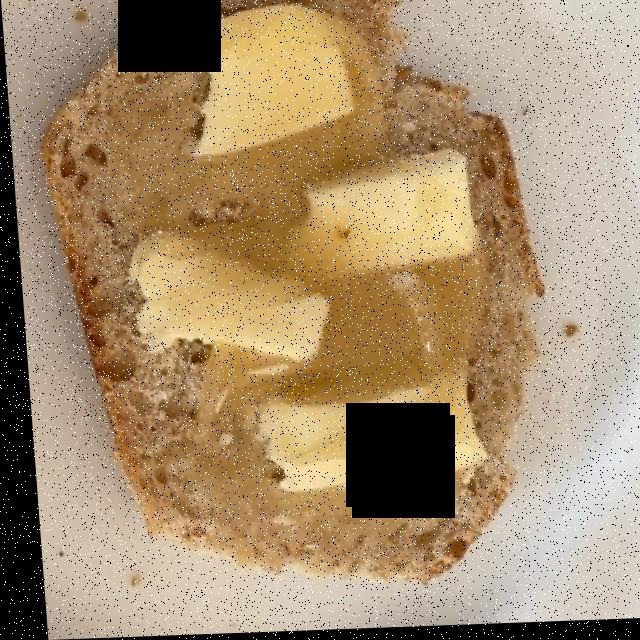bread-whole-wheat: (48, 2, 512, 573)
butter: (124, 3, 484, 493)
honey: (121, 22, 485, 529)
